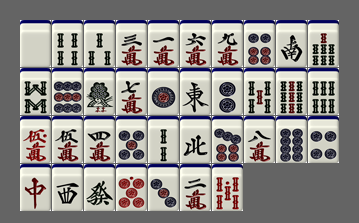0m: (20, 116, 51, 163)
0p: (116, 164, 147, 211)
0s: (212, 164, 243, 211)
1m: (148, 20, 179, 67)
1p: (148, 68, 179, 115)
1s: (84, 68, 115, 115)
1z: (180, 68, 211, 115)
2m: (180, 164, 211, 211)
2p: (212, 68, 243, 115)
2s: (148, 116, 179, 163)
2z: (276, 20, 307, 67)
3m: (116, 20, 147, 67)
3p: (148, 164, 179, 211)
3s: (84, 20, 115, 67)
3z: (52, 164, 83, 211)
4m: (84, 116, 115, 163)
4p: (308, 116, 339, 163)
4s: (52, 20, 83, 67)
4z: (180, 116, 211, 163)
5m: (52, 116, 83, 163)
5p: (116, 116, 147, 163)
5s: (244, 68, 275, 115)
5z: (20, 20, 51, 67)
6m: (180, 20, 211, 67)
6p: (244, 20, 275, 67)
6s: (308, 68, 339, 115)
6z: (84, 164, 115, 211)
7m: (116, 68, 147, 115)
7p: (212, 116, 243, 163)
7s: (308, 20, 339, 67)
7z: (20, 164, 51, 211)
8m: (244, 116, 275, 163)
8p: (276, 116, 307, 163)
8s: (20, 68, 51, 115)
9m: (212, 20, 243, 67)
9p: (52, 68, 83, 115)
9s: (276, 68, 307, 115)
